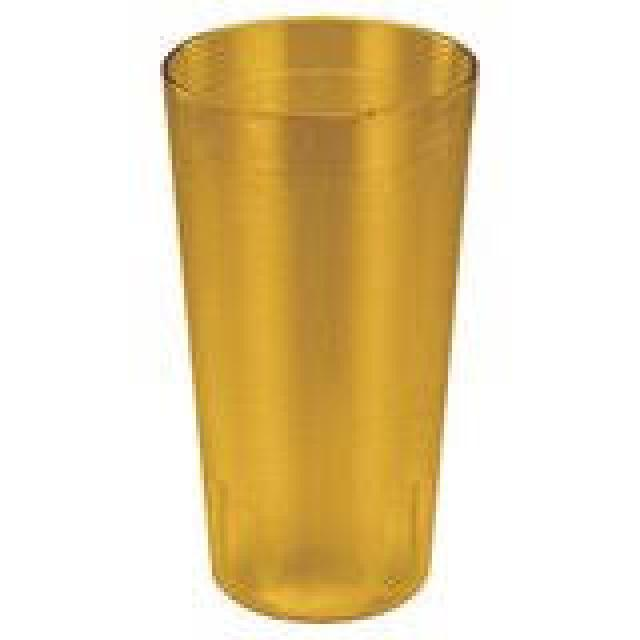Glass: (162, 16, 480, 623)
